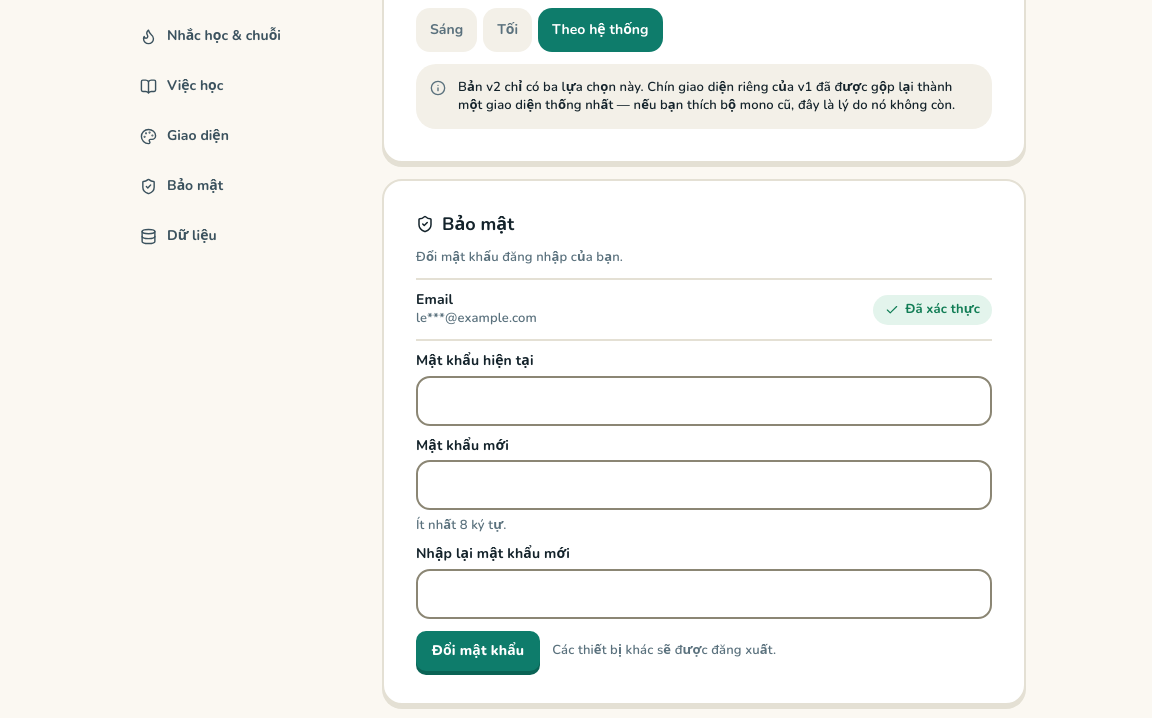
SettingsPage › translates a stable error code, not the backend sentence
(page scrolled)
In the password field labelled "Mật khẩu hiện tại": (704, 401) [416,376,992,426], type "sai"
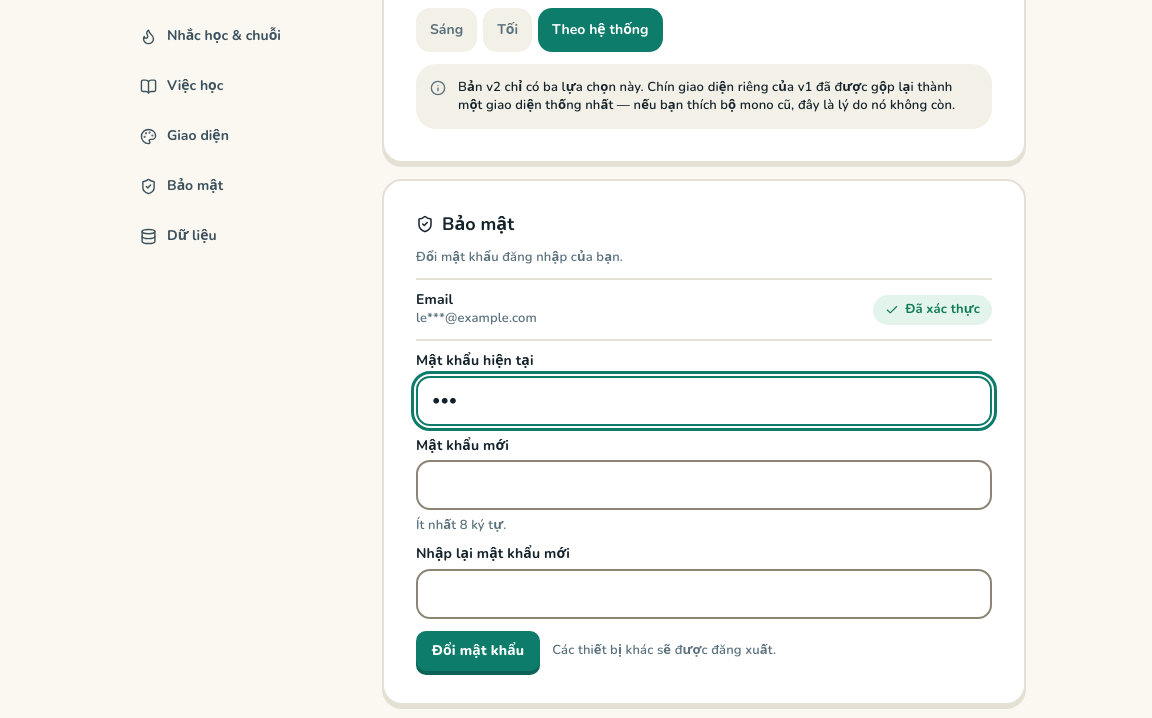
In the password field labelled "Mật khẩu mới": (704, 485) [416,460,992,510], type "MatKhauMoi123"
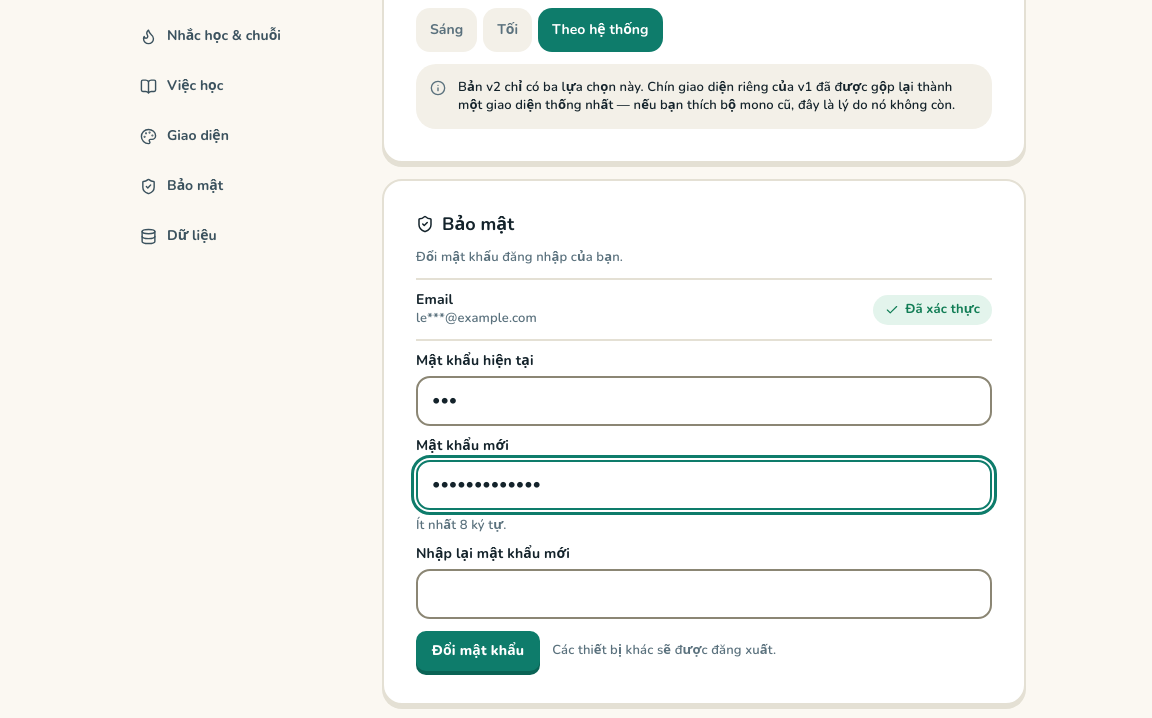
In the password field labelled "Nhập lại mật khẩu mới": (704, 594) [416,569,992,618], type "MatKhauMoi123"
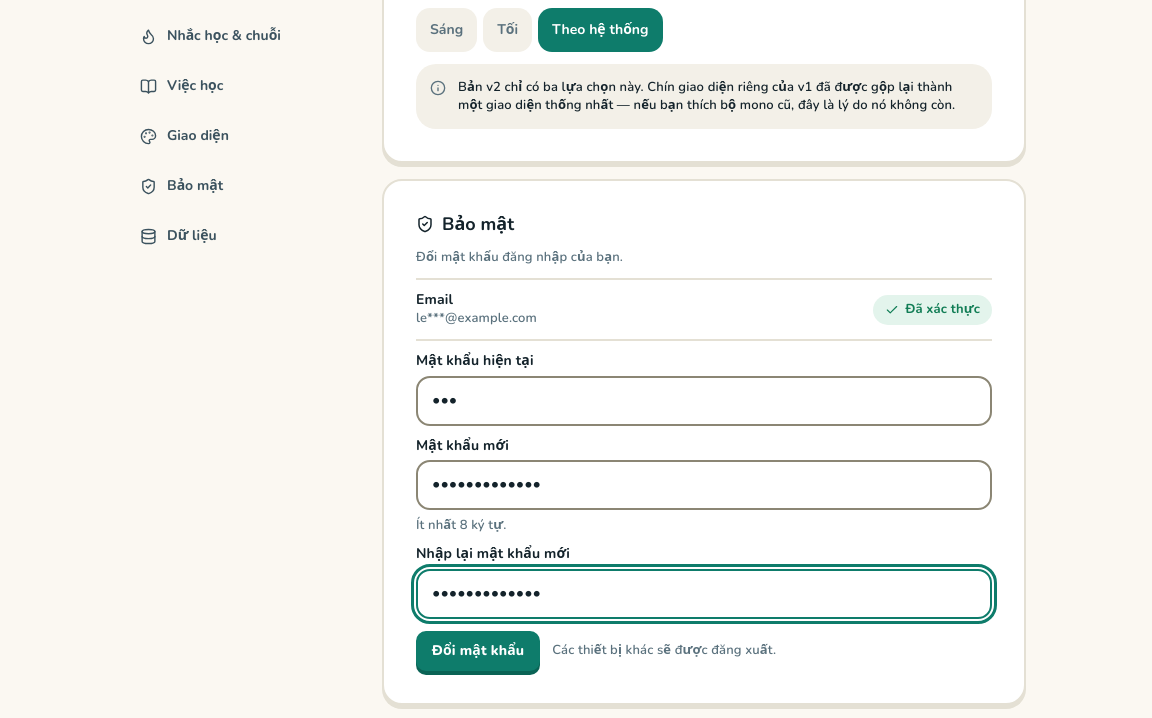
Click the button "Đổi mật khẩu": (478, 650) [416,630,540,670]
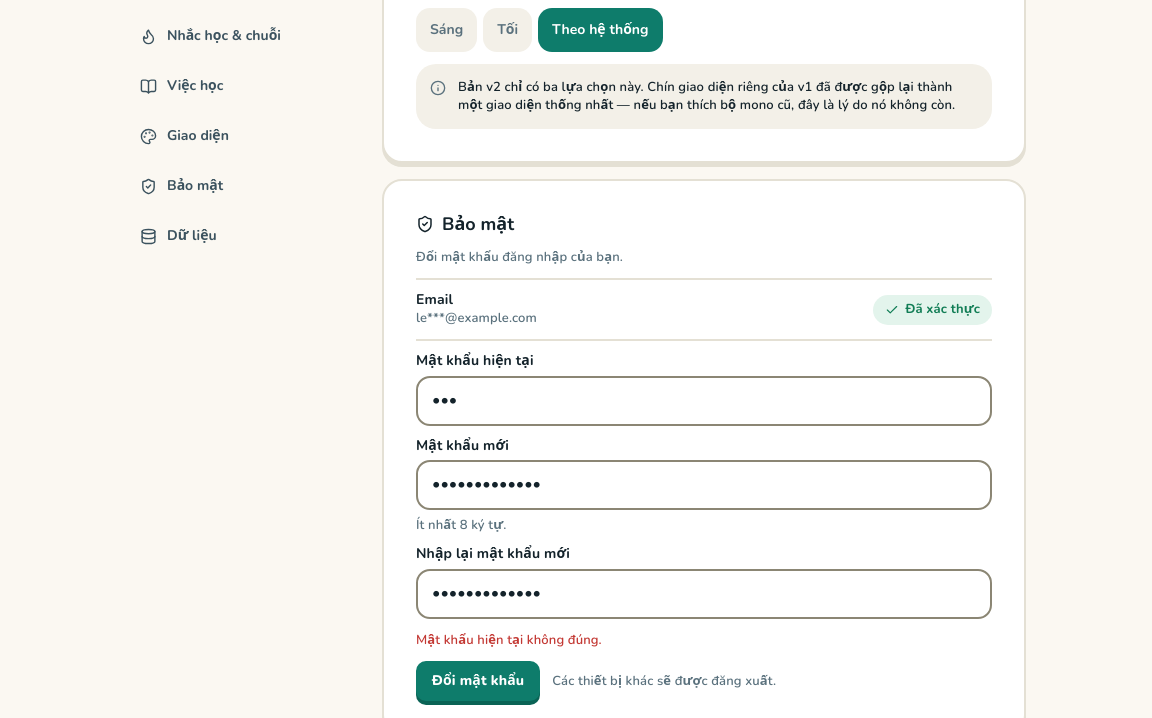
expect the text "Mật khẩu hiện tại không đúng." is shown: met, box [416,630,602,648]
